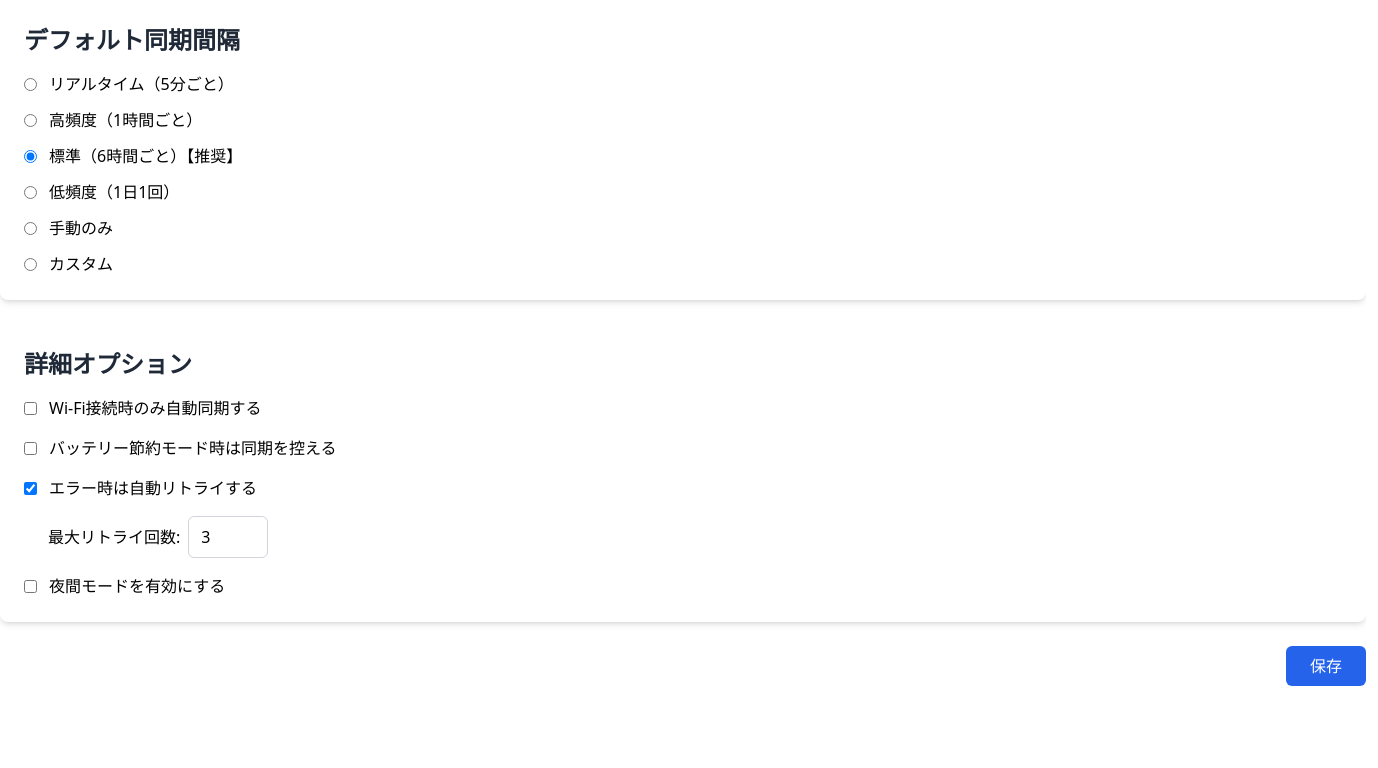
Scenario: GlobalSettingsTab › バリデーションエラーを表示する
Expected: the heading "デフォルト同期間隔" is shown, [24,23,240,56]
# カスタム間隔に無効な値を設定
Click the radio button labelled "カスタム" at {"x": 30, "y": 264}, box [24,258,37,270]
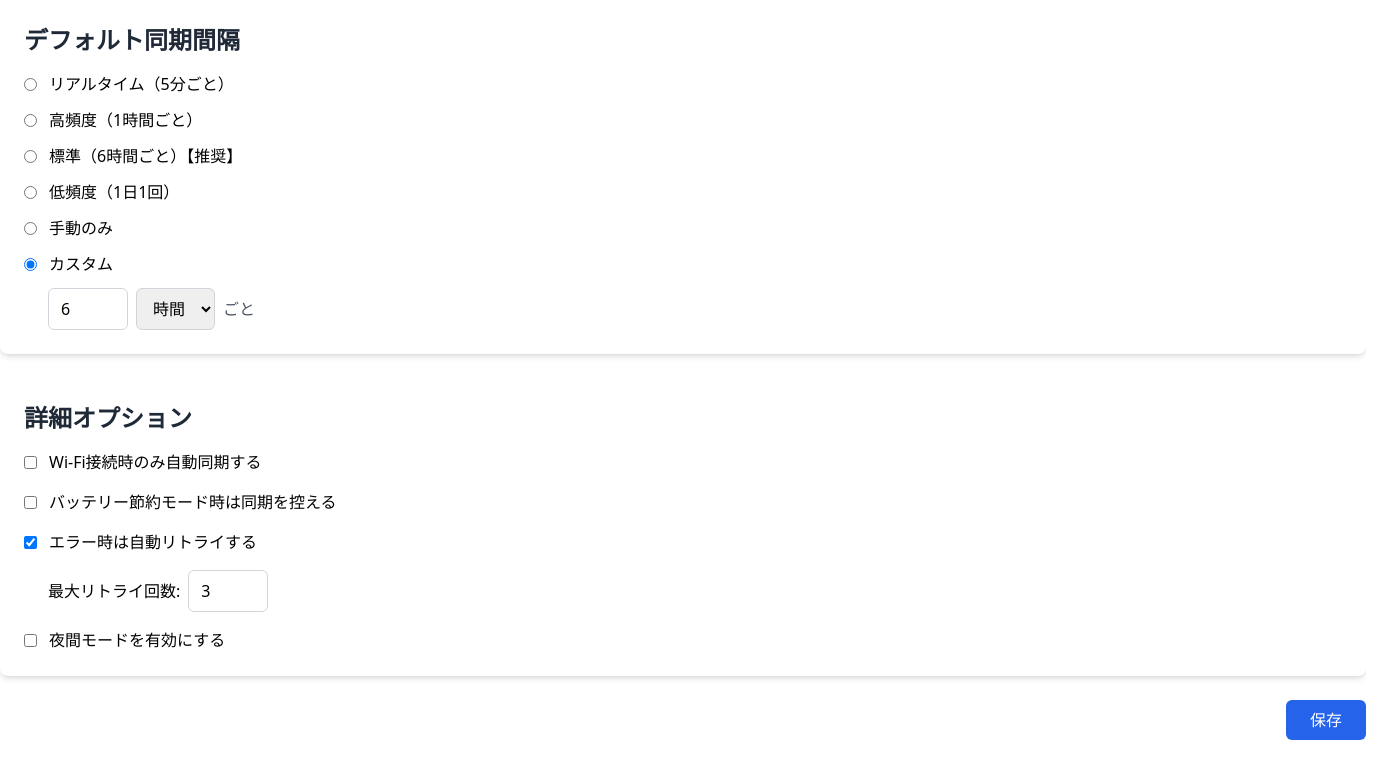
Replace the text in the number field showing "6" with "1" at {"x": 88, "y": 309}, box [48,288,128,330]
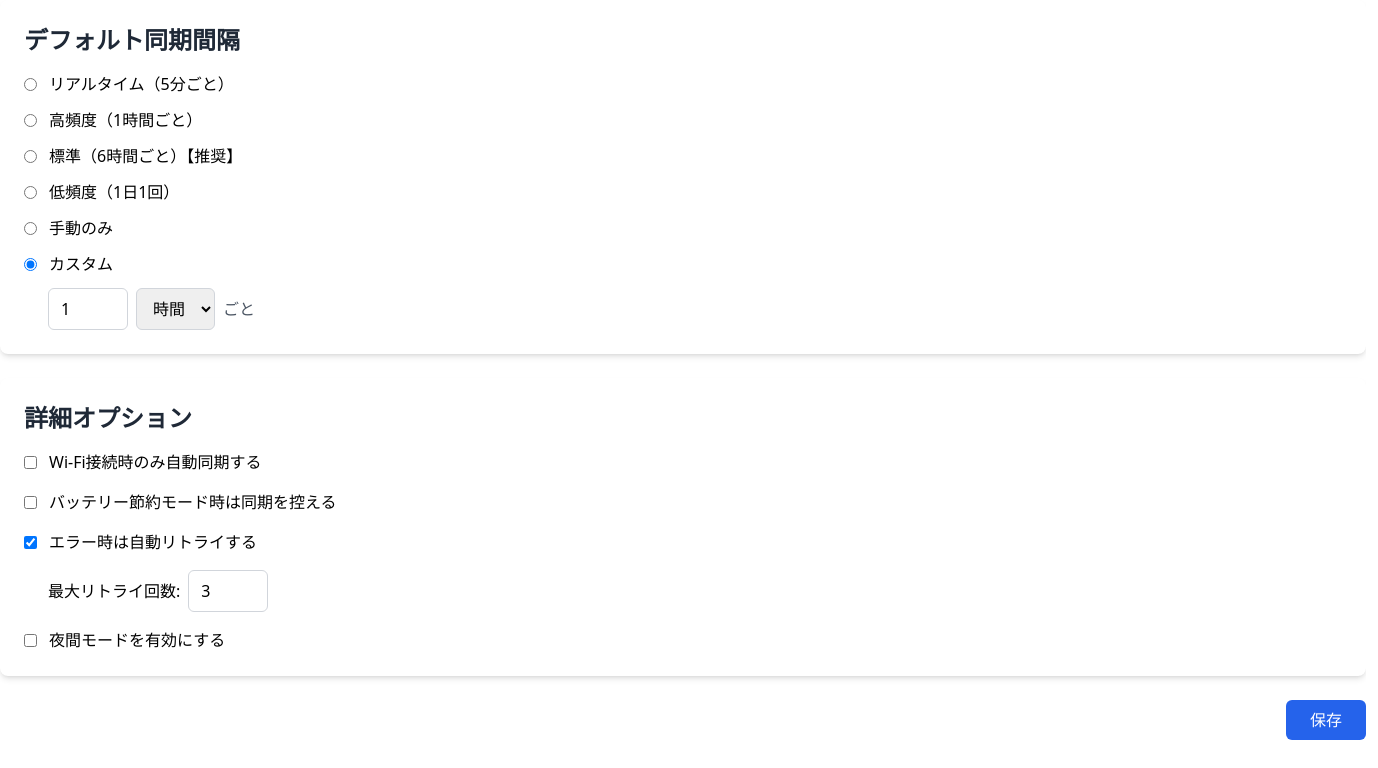
# 保存ボタンをクリック
Click the button "保存" at {"x": 1326, "y": 720}, box [1286,700,1366,740]
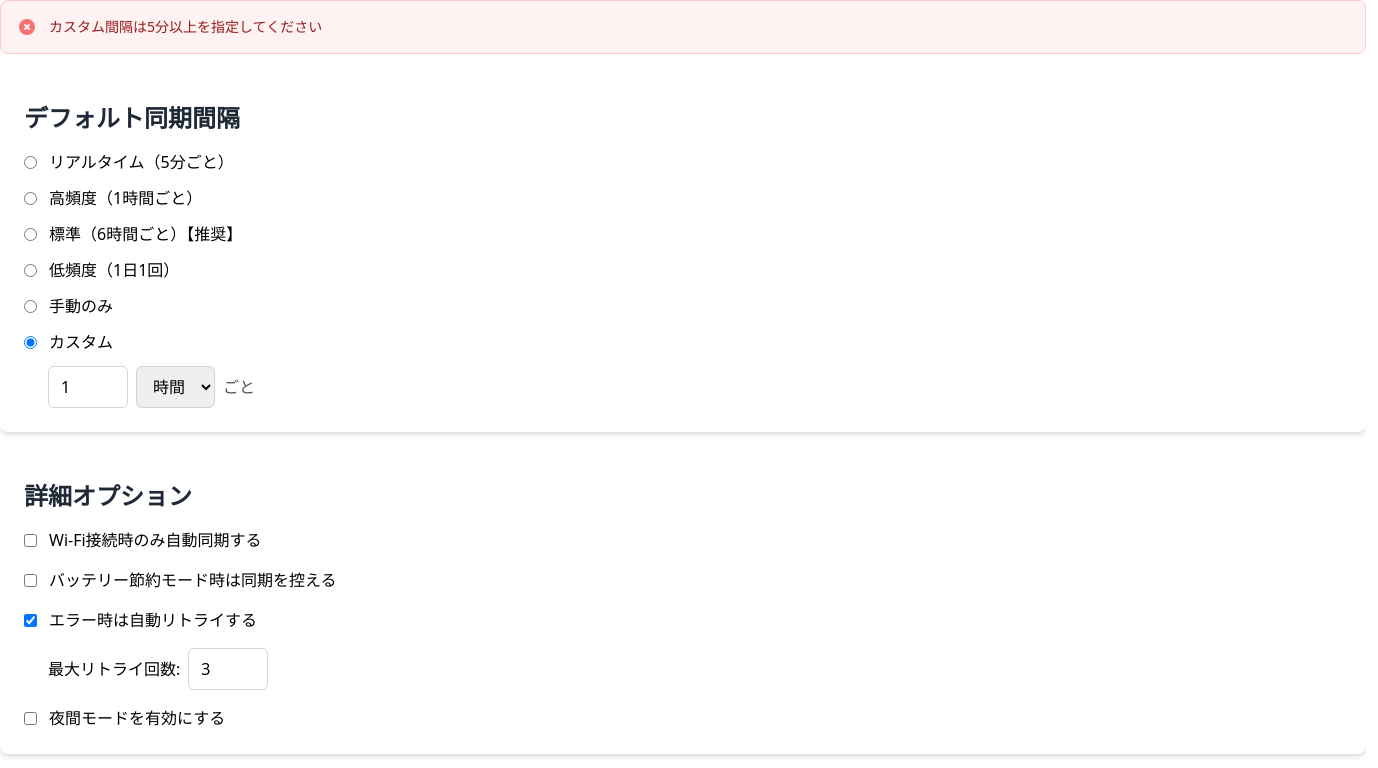
Result: the text "カスタム間隔は5分以上を指定してください" is shown at [49,17,322,37]
